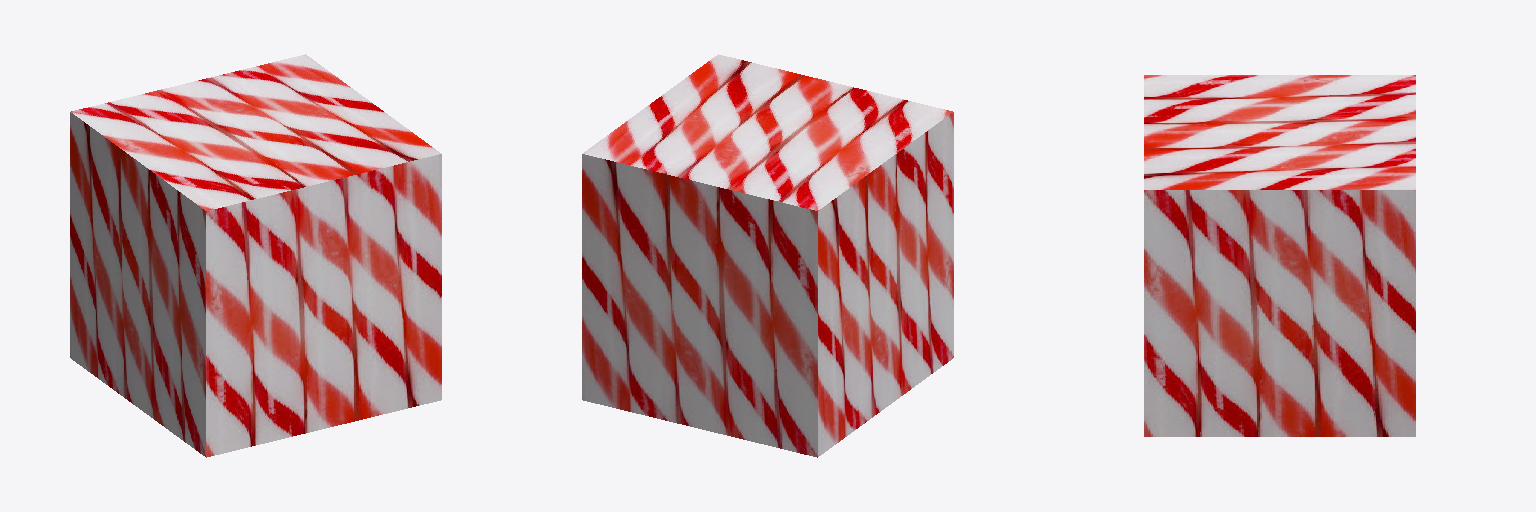
3 views of the same model, side by side, from view 1: azimuth 30°, elevation 25°; view 2: azimuth 150°, elevation 25°; view 3: azimuth 270°, elevation 25° (orthographic).
Visible parts, largest first — view 1: Cube; view 2: Cube; view 3: Cube.
Boxes of the visible parts, <box> form: Cube: <box>70,54,441,457</box>; Cube: <box>582,54,953,457</box>; Cube: <box>1144,75,1415,436</box>.
Size of the model in its own units: 2 by 2 by 2.
Materials: 1 (1 with a texture image).